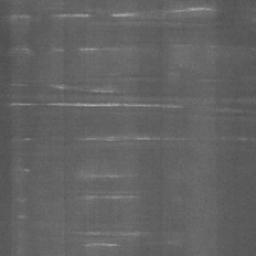Waist folding: (10, 7, 256, 248)
